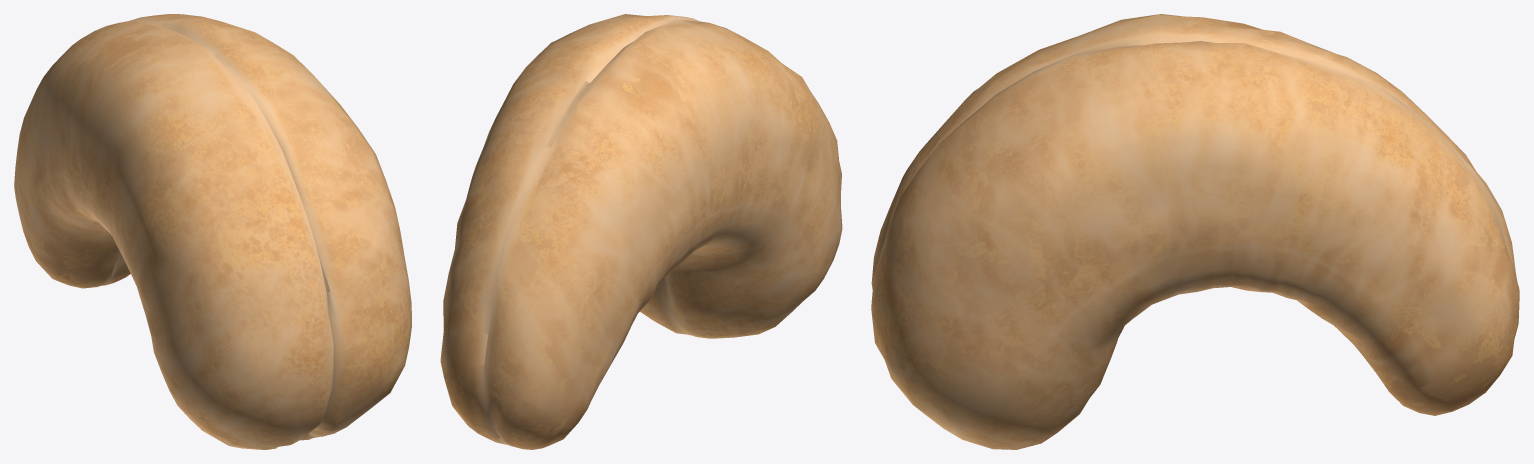
The model's file is Cashew.fbx.
The picture shows the model from 3 angles, left to right: view 1: azimuth 30°, elevation 25°; view 2: azimuth 150°, elevation 25°; view 3: azimuth 270°, elevation 25°; orthographic projection. The views are drawn at different scales.
Parts seen in each view (by area): view 1: Mesh; view 2: Mesh; view 3: Mesh.
Part boxes in pixels (left/top/right/bottom): Mesh: left=14, top=14, right=411, bottom=449; Mesh: left=440, top=14, right=842, bottom=449; Mesh: left=871, top=14, right=1519, bottom=449.
Size of the model in its own units: 47.46 by 67.78 by 99.65.
